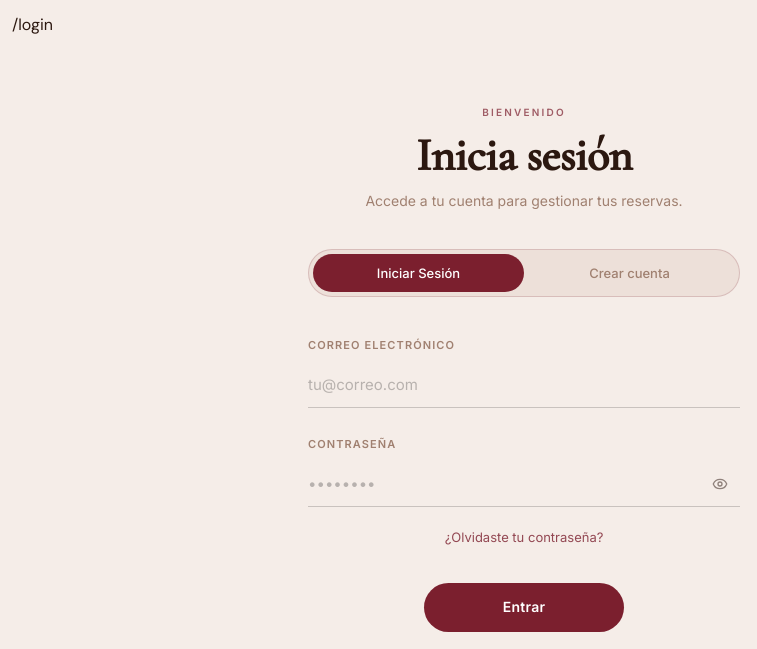
Test: Login redirect flow › link de recuperar contraseña lleva a ruta oficial
This screenshot has width=757, height=649.
Click the link "¿Olvidaste tu contraseña?" at {"x": 524, "y": 537}, box [445,527,603,547]
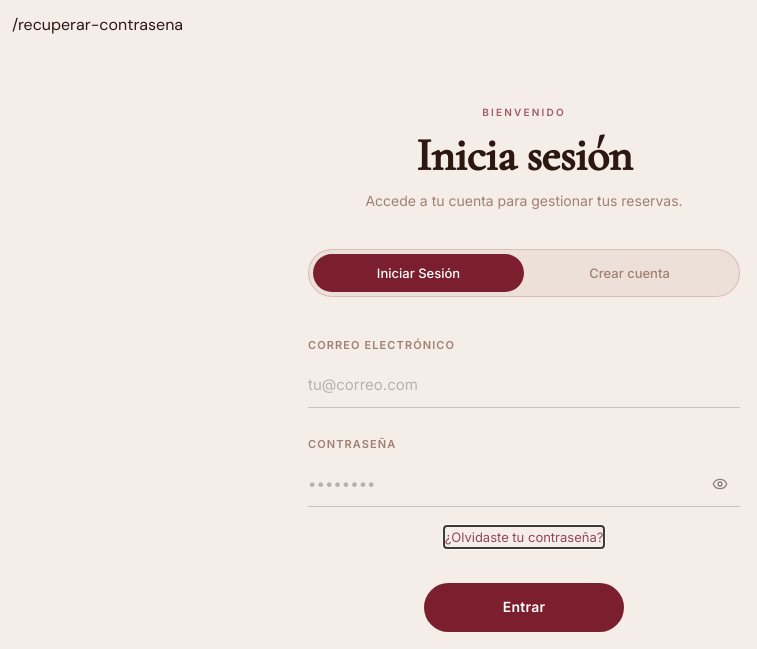
Expected: the text with test id "location" reads "/recuperar-contrasena", [12,14,183,35]
